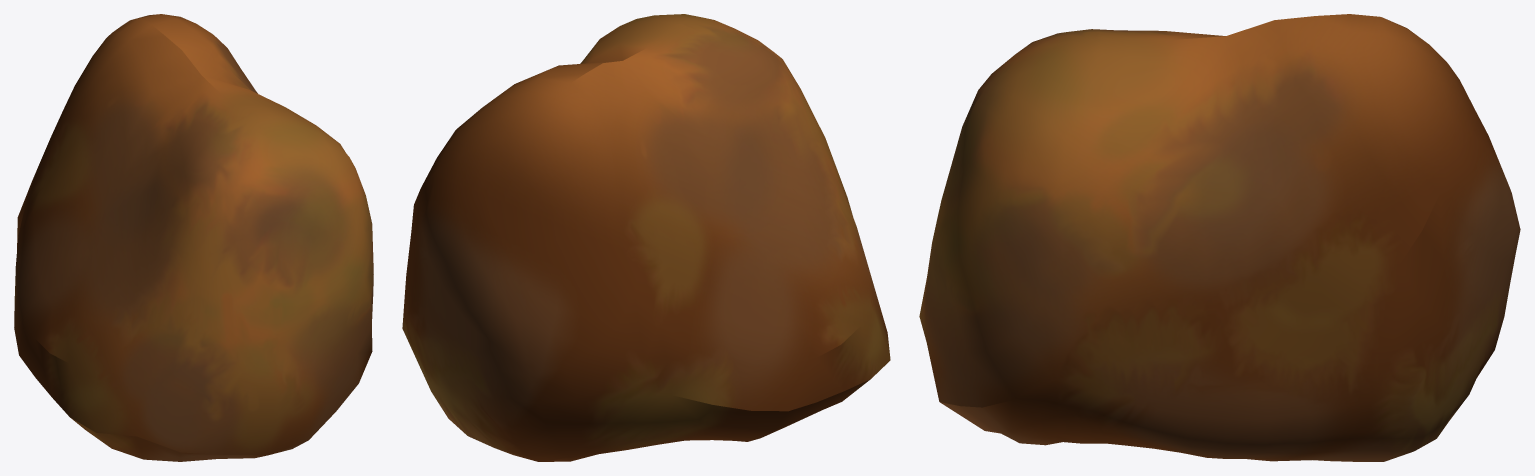
Rendered from Roca_espacial1.fbx.
The picture shows the model from 3 angles, left to right: view 1: azimuth 30°, elevation 25°; view 2: azimuth 150°, elevation 25°; view 3: azimuth 270°, elevation 25°; orthographic projection. The views are drawn at different scales.
Visible parts, largest first — view 1: roca1_Low; view 2: roca1_Low; view 3: roca1_Low.
Part boxes in pixels (left/top/right/bottom): roca1_Low: left=14, top=14, right=373, bottom=461; roca1_Low: left=402, top=14, right=890, bottom=461; roca1_Low: left=919, top=14, right=1520, bottom=461.
Size of the model in its own units: 0.9067 by 0.9199 by 1.18.
